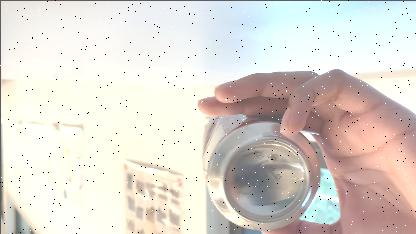Can: (198, 106, 326, 228)
